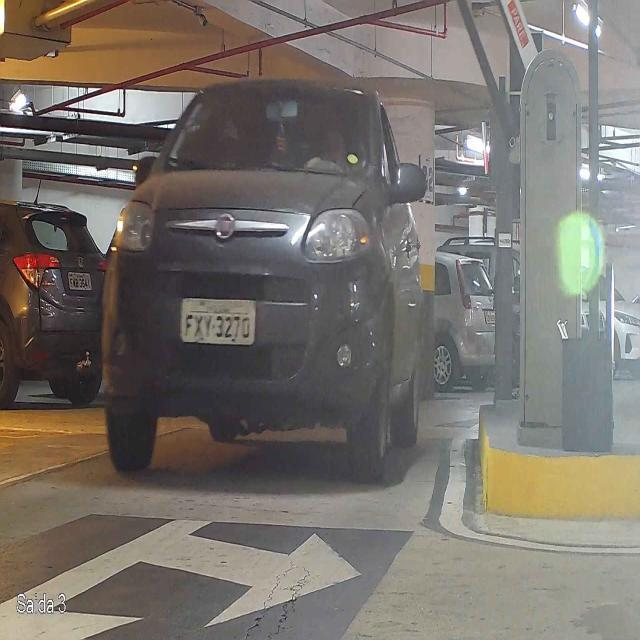old_plate: (179, 296, 258, 347)
